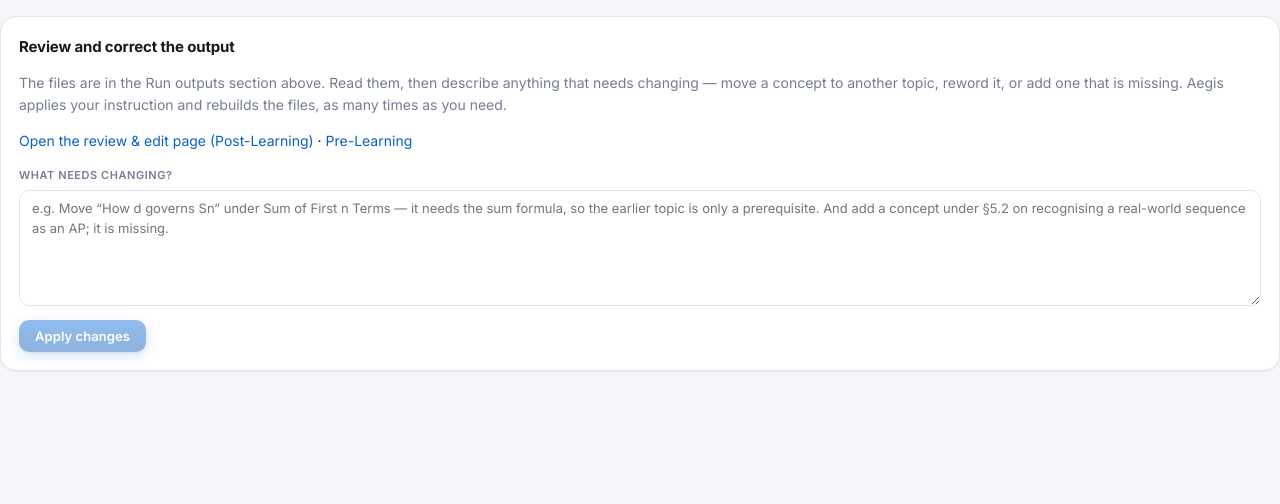
Scenario: submits an instruction and refreshes the history
Replace the text in the text box labelled "What needs changing?" with "Move it under Sum of First n Terms." at (640, 248), box [19,190,1261,306]
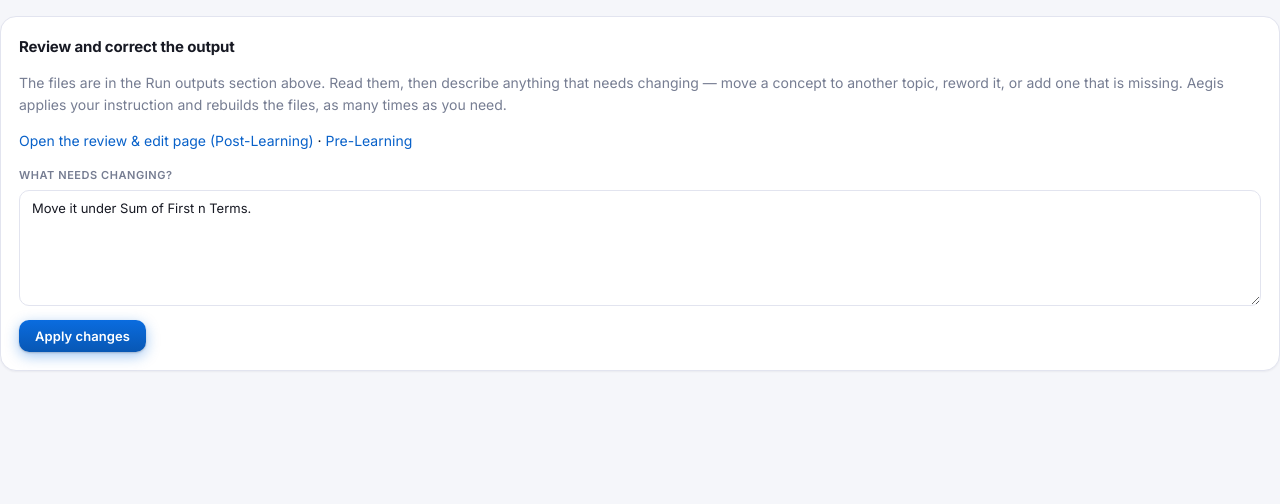
Click the button "Apply changes".
click(82, 336)  # box [19,320,146,352]
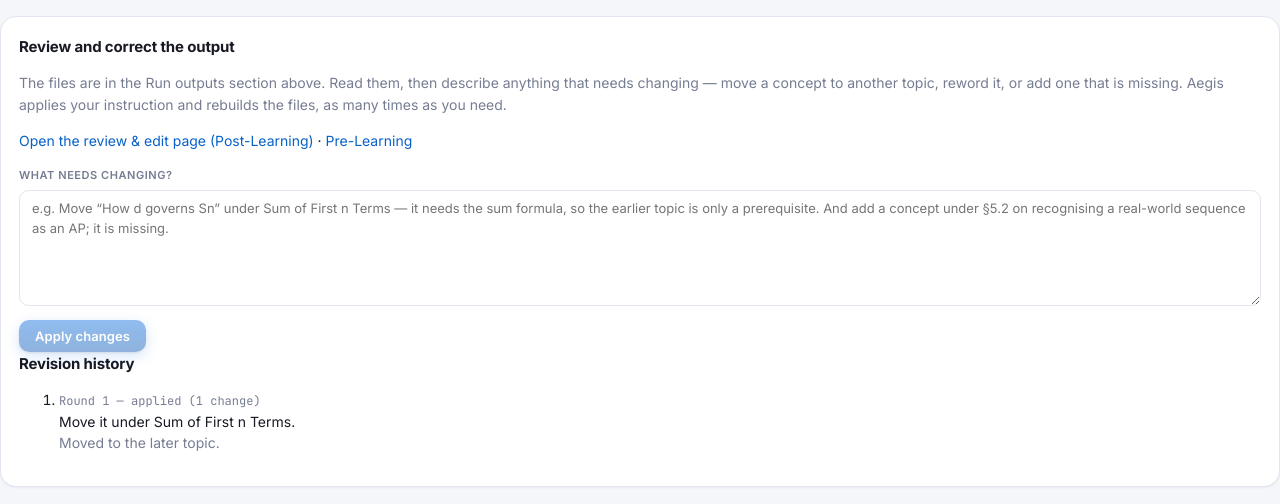
Check: the element with test id "revision-history" shows "Round 1", box [19,354,295,451]
